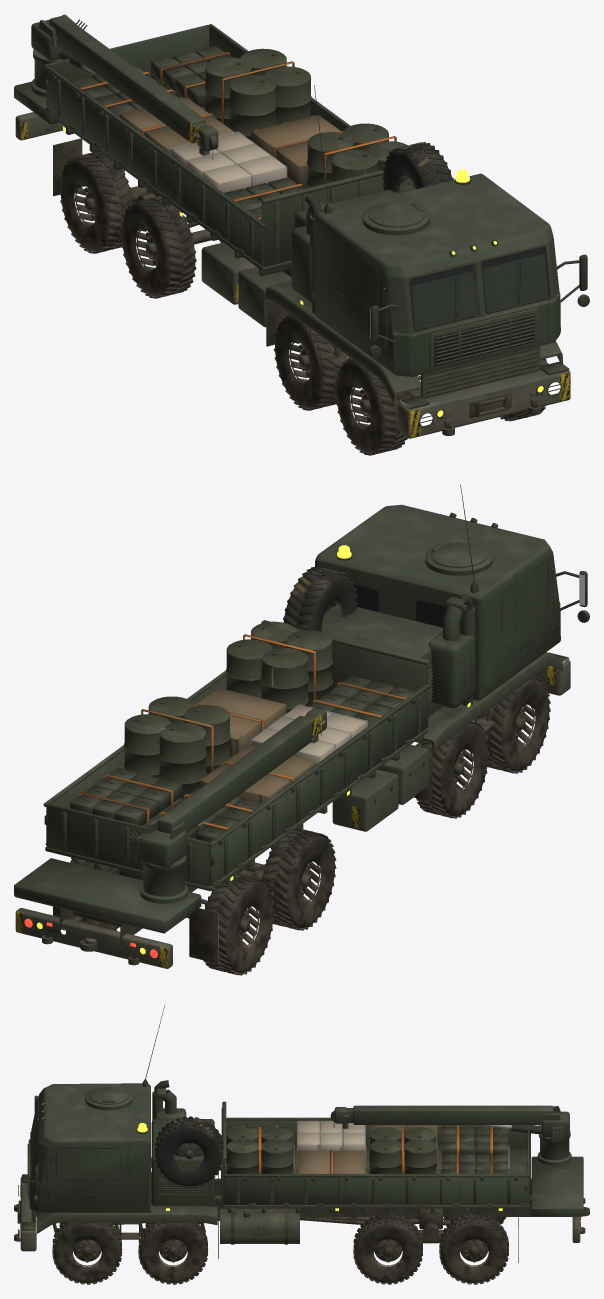
The model's file is hemtt_m977a4_web.glb.
The picture shows the model from 3 angles, top to bottom: view 1: azimuth 30°, elevation 25°; view 2: azimuth 150°, elevation 25°; view 3: azimuth 270°, elevation 25°; orthographic projection. The views are drawn at different scales.
Visible parts, largest first — view 1: Cab_Shell, Cargo_Body_Mesh, Bumper, Cargo_Pallet_5_Mesh, Cab_Glass, Wheel_3_Right_Mesh, Wheel_4_Right_Mesh, Crane_Boom_Mesh, Wheel_1_Right_Mesh, Wheel_2_Right_Mesh, Cargo_Pallet_1_Mesh, Grille (+21 smaller); view 2: Cargo_Body_Mesh, Cab_Shell, Rear_End, Engine_Bay, Cargo_Pallet_5_Mesh, Cargo_Pallet_1_Mesh, Wheel_3_Right_Mesh, Crane_Boom_Mesh, Wheel_4_Right_Mesh, Battery_And_Tool_Boxes, Wheel_1_Right_Mesh, Wheel_2_Right_Mesh (+16 smaller); view 3: Cab_Shell, Cargo_Body_Mesh, Crane_Boom_Mesh, Wheel_3_Left_Mesh, Wheel_4_Left_Mesh, Spare_Tire_Mesh, Wheel_2_Left_Mesh, Wheel_1_Left_Mesh, Frame_And_Running_Gear, Rear_End, Engine_Bay, Cargo_Pallet_1_Mesh (+13 smaller).
Boxes of the visible parts, x1,y1,x2,y2 form: Cab_Shell: (315, 173, 560, 376); Cargo_Body_Mesh: (43, 24, 414, 276); Bumper: (398, 346, 570, 438); Cargo_Pallet_5_Mesh: (204, 48, 311, 140); Cab_Glass: (411, 248, 548, 329); Wheel_3_Right_Mesh: (120, 196, 196, 298); Wheel_4_Right_Mesh: (59, 151, 133, 253); Crane_Boom_Mesh: (49, 15, 205, 143); Wheel_1_Right_Mesh: (335, 358, 407, 455); Wheel_2_Right_Mesh: (273, 313, 347, 410); Cargo_Pallet_1_Mesh: (306, 123, 407, 187); Grille: (429, 308, 538, 370); Cargo_Body_Mesh: (43, 620, 430, 891); Cab_Shell: (315, 504, 560, 700); Rear_End: (14, 858, 201, 968); Engine_Bay: (321, 594, 475, 716); Cargo_Pallet_5_Mesh: (124, 696, 230, 798); Cargo_Pallet_1_Mesh: (226, 621, 332, 713); Wheel_3_Right_Mesh: (261, 829, 336, 930); Crane_Boom_Mesh: (156, 716, 314, 841); Wheel_4_Right_Mesh: (203, 873, 274, 975); Battery_And_Tool_Boxes: (332, 744, 429, 831); Wheel_1_Right_Mesh: (476, 676, 550, 773); Wheel_2_Right_Mesh: (416, 721, 489, 818); Cab_Shell: (29, 1083, 150, 1212); Cargo_Body_Mesh: (221, 1101, 530, 1212); Crane_Boom_Mesh: (353, 1105, 553, 1134); Wheel_3_Left_Mesh: (353, 1213, 422, 1284); Wheel_4_Left_Mesh: (439, 1213, 508, 1284); Spare_Tire_Mesh: (154, 1116, 223, 1188); Wheel_2_Left_Mesh: (138, 1222, 208, 1284); Wheel_1_Left_Mesh: (52, 1222, 122, 1284); Frame_And_Running_Gear: (36, 1178, 581, 1243); Rear_End: (531, 1156, 589, 1242); Engine_Bay: (151, 1080, 214, 1206); Cargo_Pallet_1_Mesh: (225, 1127, 294, 1173).
Size of the model in its own units: 3.16 by 4.45 by 10.21.
Materials: 11 (4 with a texture image).
